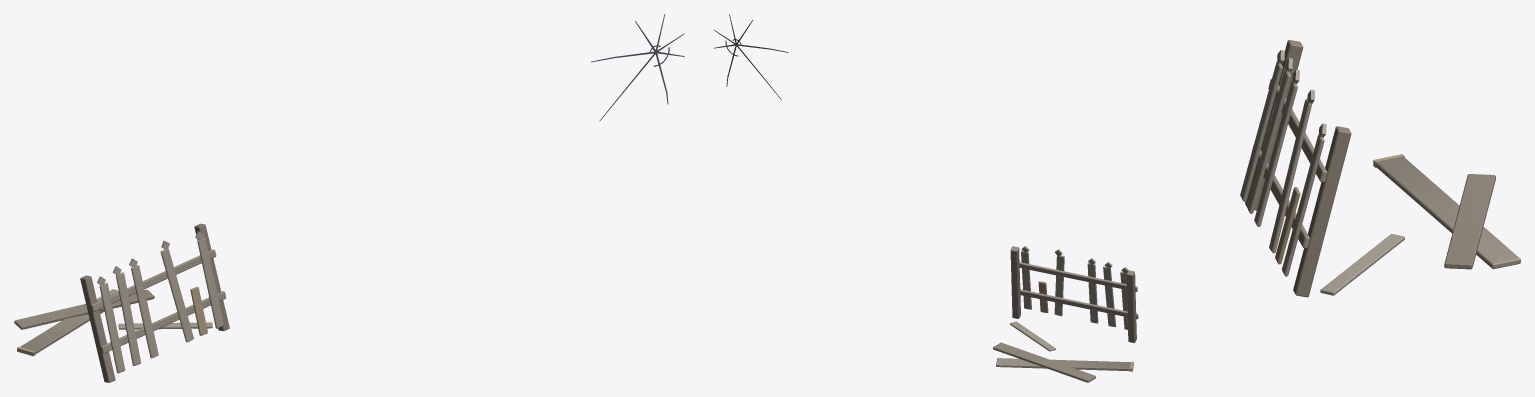
The model's file is house_worn_house.glb.
The picture shows the model from 3 angles, left to right: view 1: azimuth 30°, elevation 25°; view 2: azimuth 150°, elevation 25°; view 3: azimuth 270°, elevation 25°; orthographic projection. The views are drawn at different scales.
Size of the model in its own units: 5.85 by 2.44 by 1.88.
